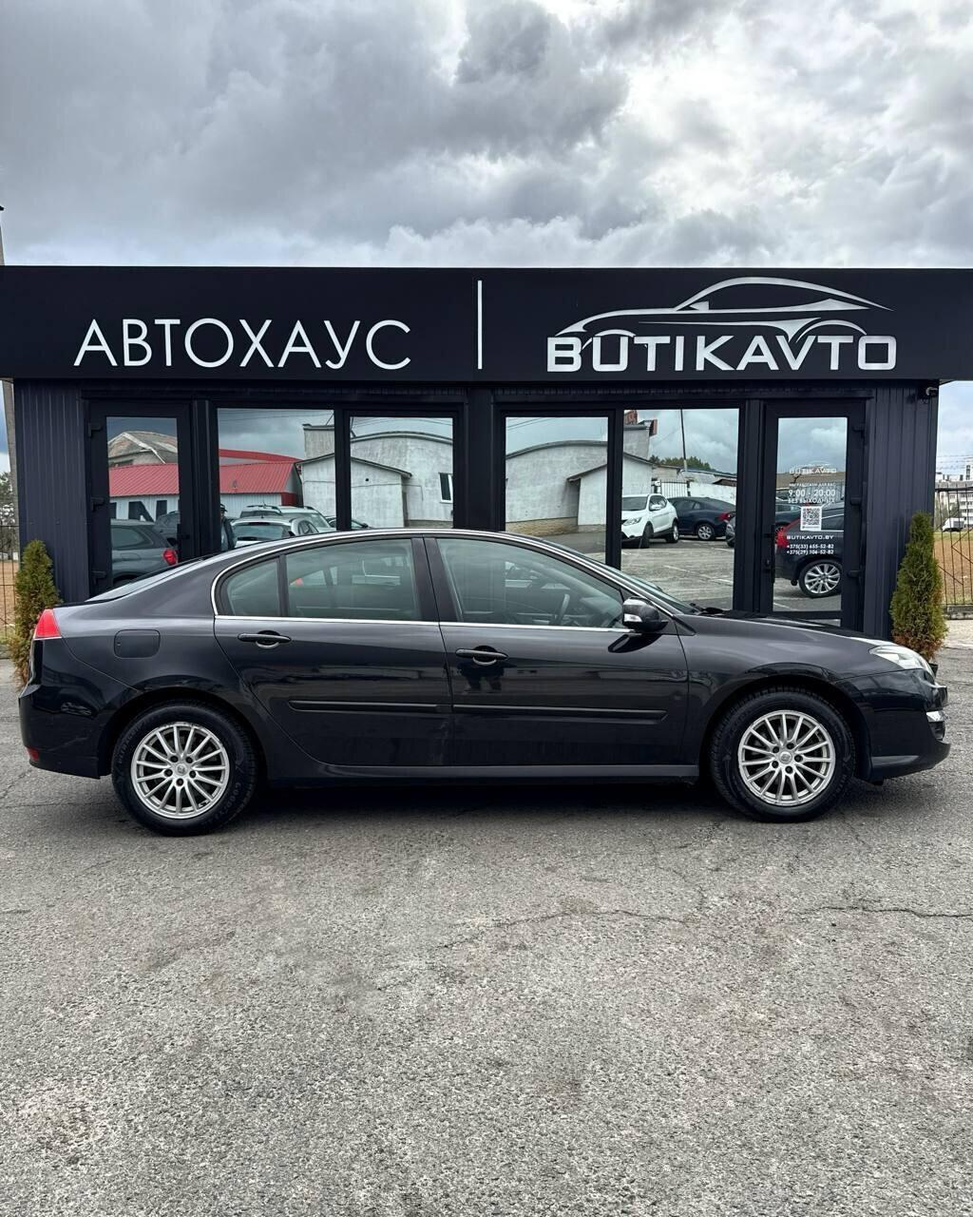Laguna_2010-2015: (9, 525, 952, 830)
